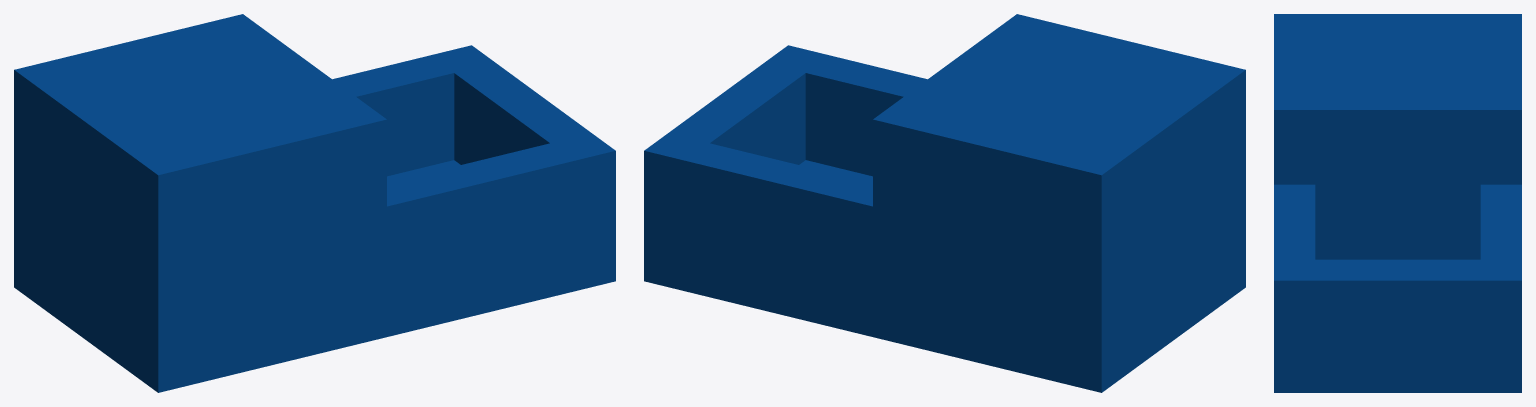
Rendered from car.dae.
3 views of the same model, side by side, from view 1: azimuth 30°, elevation 25°; view 2: azimuth 150°, elevation 25°; view 3: azimuth 270°, elevation 25° (orthographic). The views are drawn at different scales.
Visible parts, largest first — view 1: Cube_044; view 2: Cube_044; view 3: Cube_044.
Boxes of the visible parts, <box> form: Cube_044: <box>14,14,615,392</box>; Cube_044: <box>644,14,1245,392</box>; Cube_044: <box>1274,14,1521,392</box>.
Bounding box in the file's own units: 0.22 × 0.12 × 0.1.
